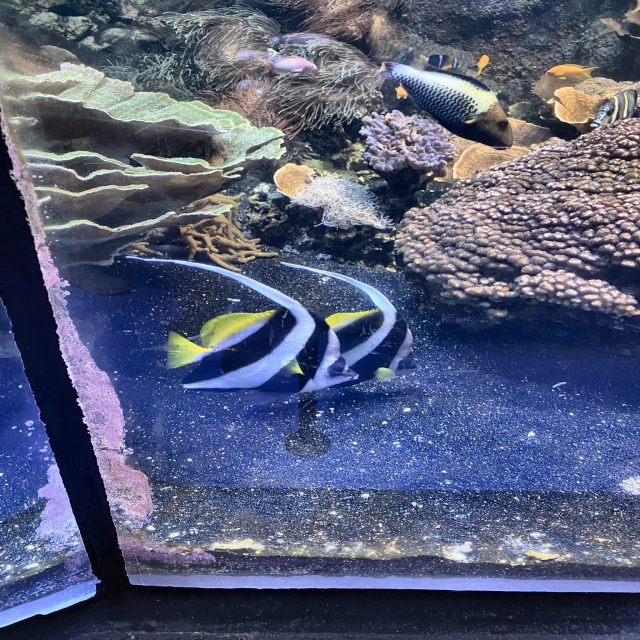fish: (167, 311, 361, 396), (375, 60, 515, 151), (278, 310, 415, 384), (590, 90, 639, 125), (261, 55, 317, 73), (545, 63, 598, 80)
